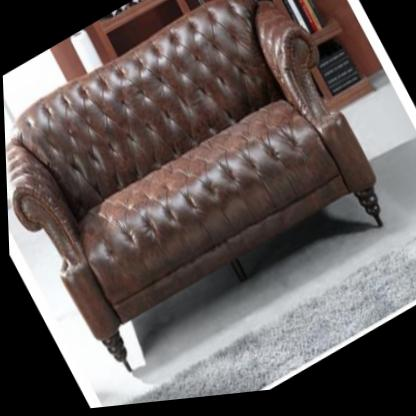Sofa: (0, 0, 409, 398)
